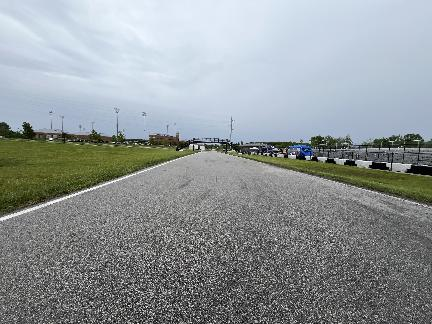Grass: (0, 140, 192, 214), (239, 155, 431, 202)
Lane: (0, 152, 431, 323)
